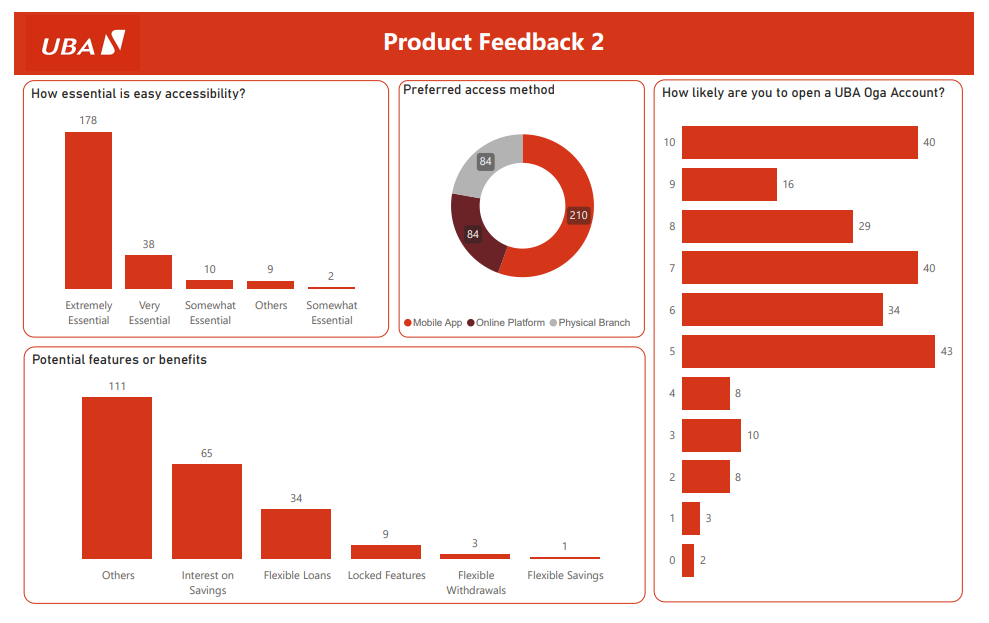

What the dashboard file says about the page in this screenshot:
{"tool":"powerbi","page":{"name":"Product Feedback 2","canvas":[1280,800],"ordinal":3},"visuals":[{"type":"shape","box":[0,82.8,1280,717.4],"z":0},{"type":"clusteredColumnChart","title":"Potential features or benefits","fields":{"Category":["Survey.What features or benefits would you like to see added to the product? Clean"],"Y":["CountNonNull(Survey.What features or benefits would you like to see added to the product? Clean)"]},"box":[12.7,446,829,342.9],"z":2000},{"type":"shape","box":[0,0,1280,82.8],"z":3000},{"type":"donutChart","title":"Preferred access method","fields":{"Category":["Access Method.Would you prefer to access the product through a mobile app, online platform, or physical branch? Clean"],"Y":["CountNonNull(Access Method.Would you prefer to access the product through a mobile app, online platform, or physical bra"]},"box":[512.7,90.6,328.1,343.5],"z":4000},{"type":"image","box":[12.3,0,159.4,82.8],"z":5000},{"type":"clusteredColumnChart","title":"How essential is easy accessibility?","fields":{"Category":["Survey.How essential is easy accessibility, good customer service, and fees associated with the product? Clean"],"Y":["CountNonNull(Survey.How essential is easy accessibility, good customer service, and fees associated with the product? Cl"]},"box":[12,90.6,488,343.5],"z":6000},{"type":"textbox","box":[389.4,0,501.3,82.8],"z":7000},{"type":"clusteredBarChart","title":"How likely are you to open a UBA Oga Account?","fields":{"Category":["Survey.How likely are you to open a UBA Oga Account when launched?"],"Y":["CountNonNull(Survey.How likely are you to open a UBA Oga Account when launched?)"]},"box":[853.3,90.4,411.9,696.3],"z":8000}]}

Visuals, with their boxes in screenshot pixels (x1, y1, x2, y2), scaled from the page's 1280x800 canvas onto the 989x623 screenshot:
shape: bbox=[0, 64, 988, 622]
"Potential features or benefits" clusteredColumnChart: bbox=[10, 347, 650, 614]
shape: bbox=[0, 0, 988, 64]
"Preferred access method" donutChart: bbox=[396, 71, 650, 338]
image: bbox=[10, 0, 133, 64]
"How essential is easy accessibility?" clusteredColumnChart: bbox=[9, 71, 386, 338]
textbox: bbox=[301, 0, 688, 64]
"How likely are you to open a UBA Oga Account?" clusteredBarChart: bbox=[659, 70, 978, 613]
